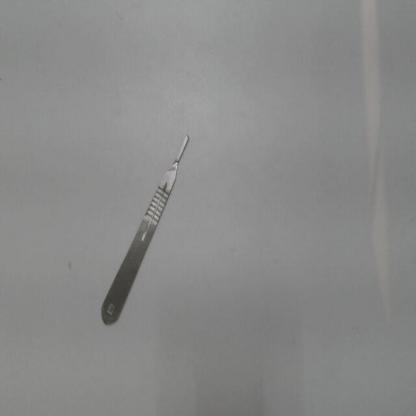No.3 BP Handle: (97, 127, 195, 334)
